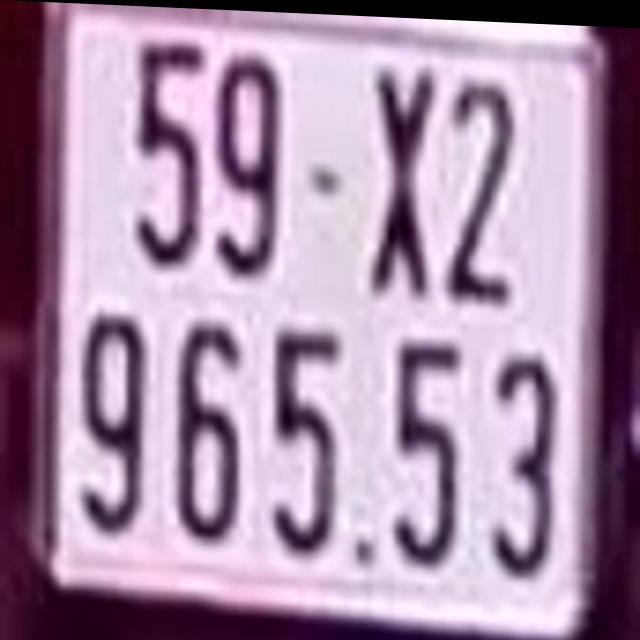2: (449, 79, 517, 302)
3: (490, 348, 557, 571)
5: (395, 335, 465, 560), (268, 327, 337, 553), (137, 43, 199, 266)
6: (176, 317, 240, 542)
9: (80, 309, 151, 538), (214, 49, 284, 279)
X: (376, 65, 428, 297)
